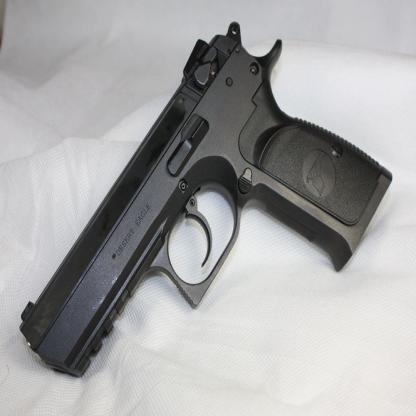Pistol: (19, 21, 392, 384)
